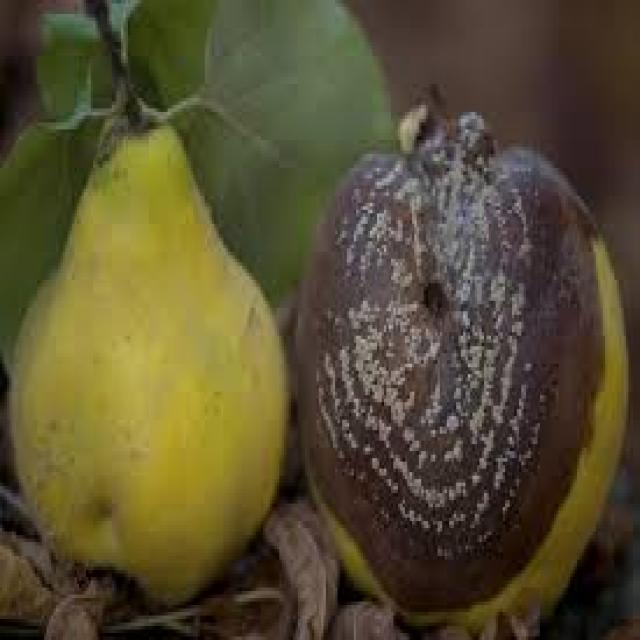organic waste: (291, 80, 628, 636), (5, 105, 288, 605)
